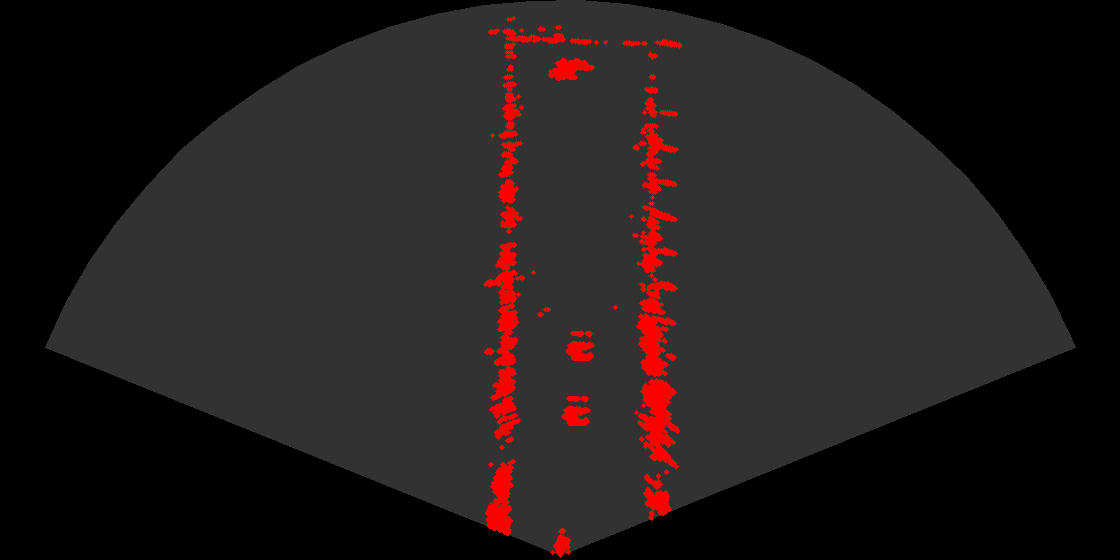AUV: (542, 56, 598, 88)
ball: (542, 388, 602, 429), (546, 323, 606, 364)
